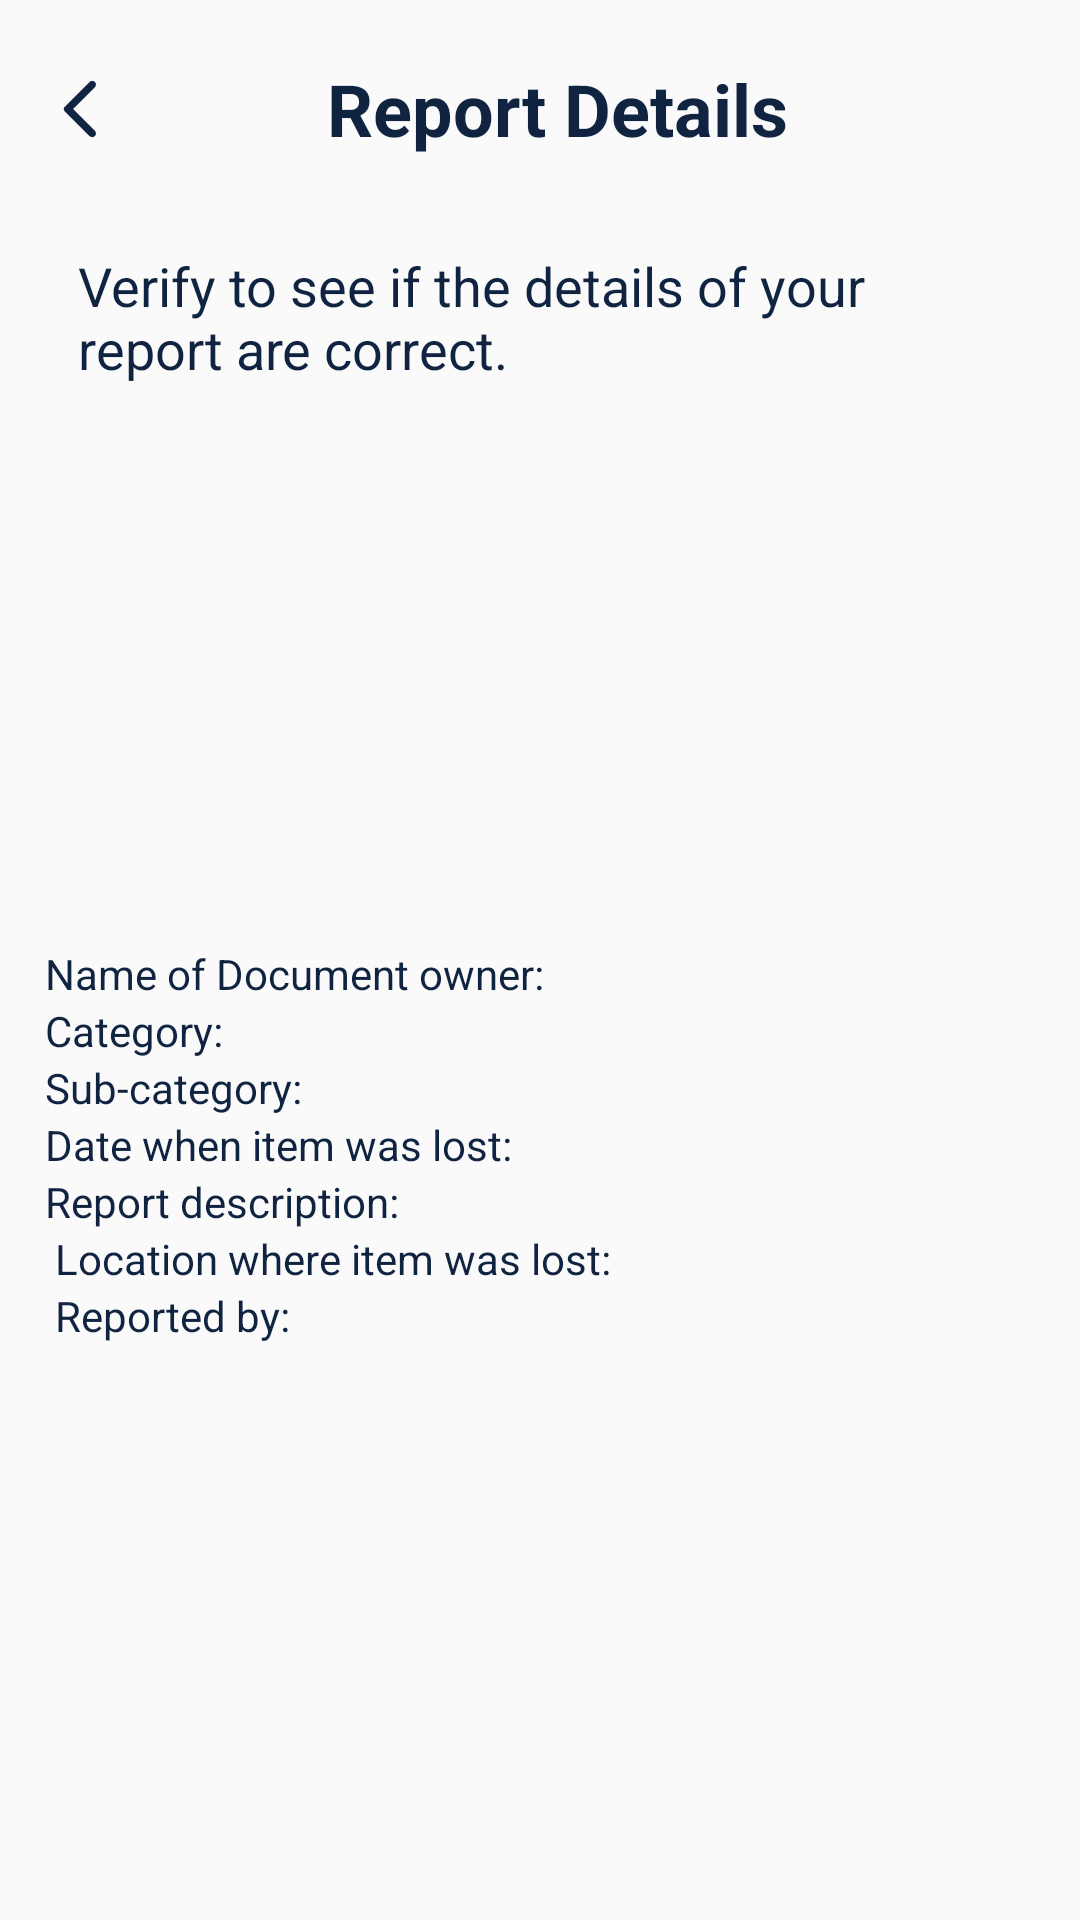

Named icons in this screenshot (1080 x 1920) and their bounding boxes, (x1, y1, x2, y2):
Back_btn icon: (63, 81, 96, 138)
